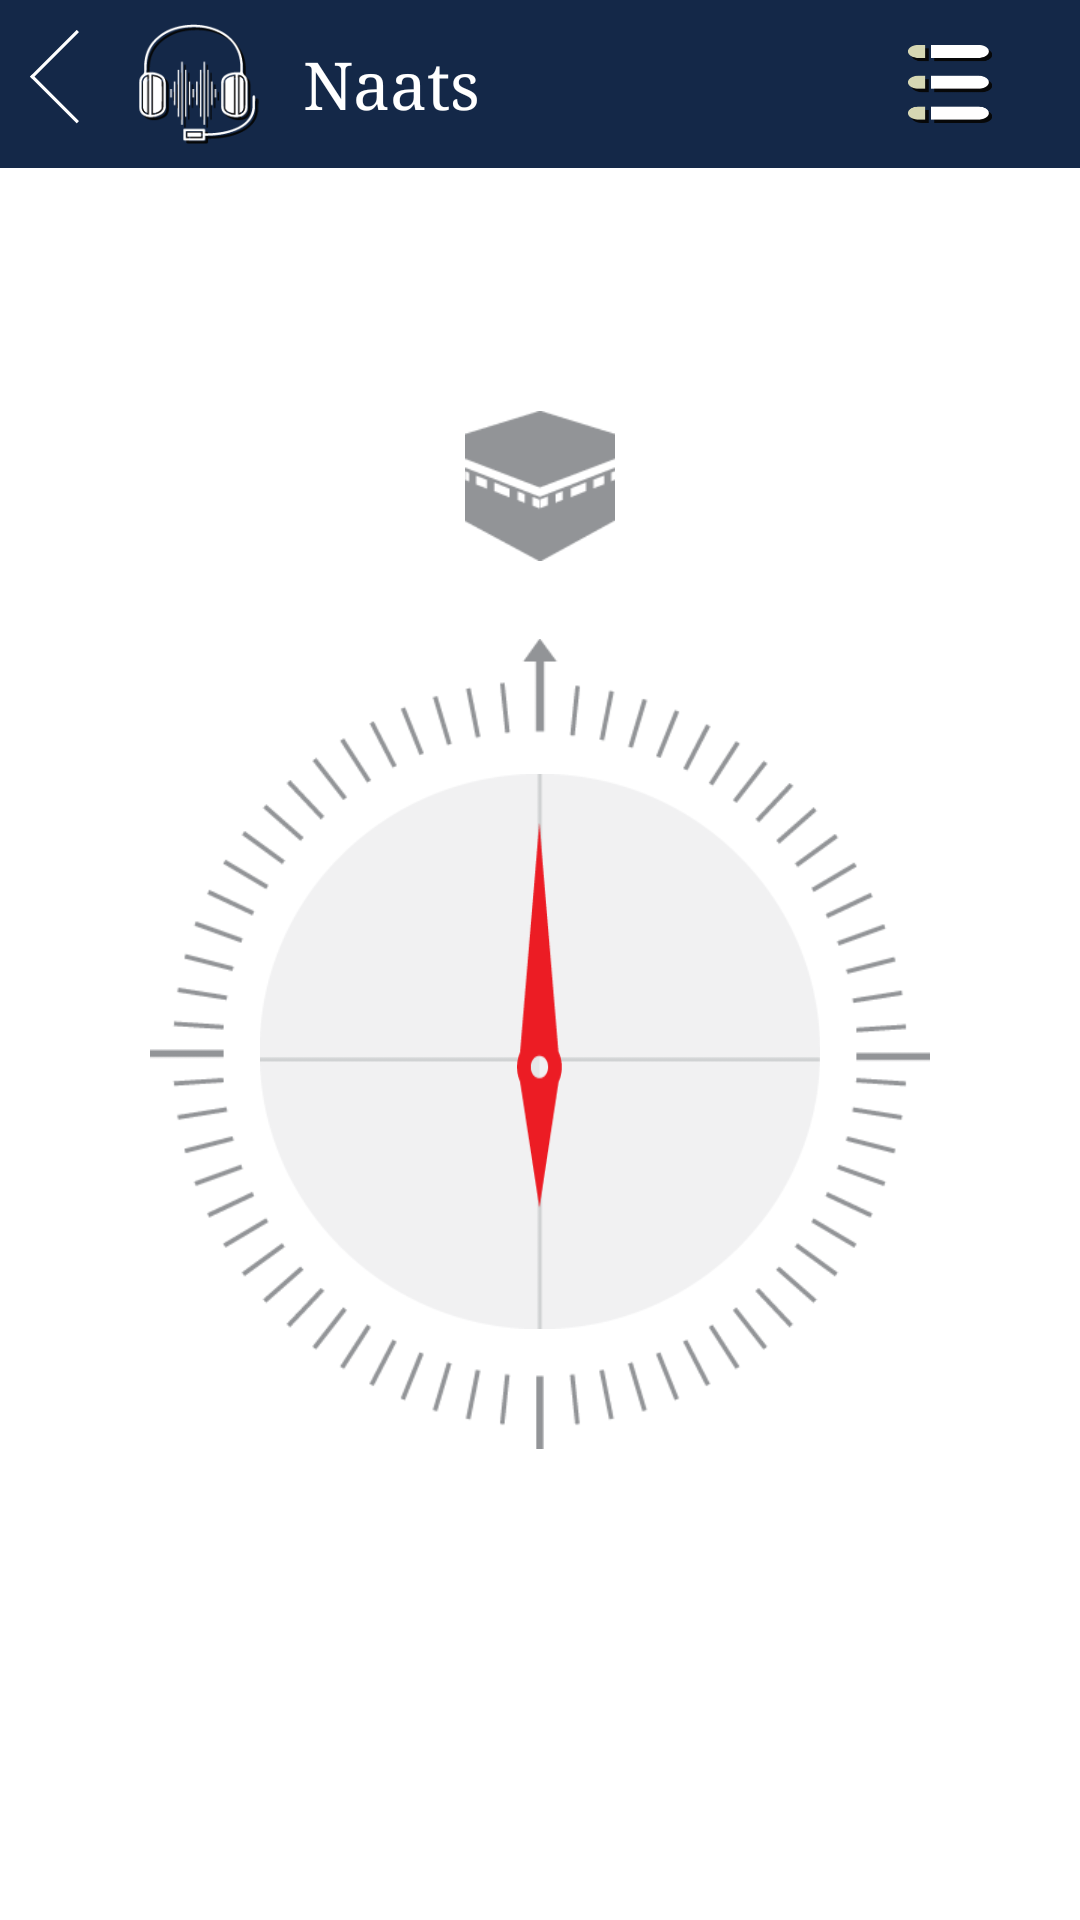

Icon click points for this 1080px x 1920px phone screenshot, format point (x, y):
back: point (54, 77)
kaba: point (540, 486)
nav: point (950, 84)
